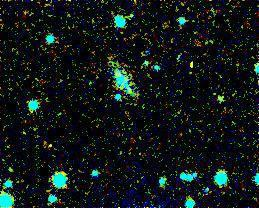star: (175, 47, 205, 77)
